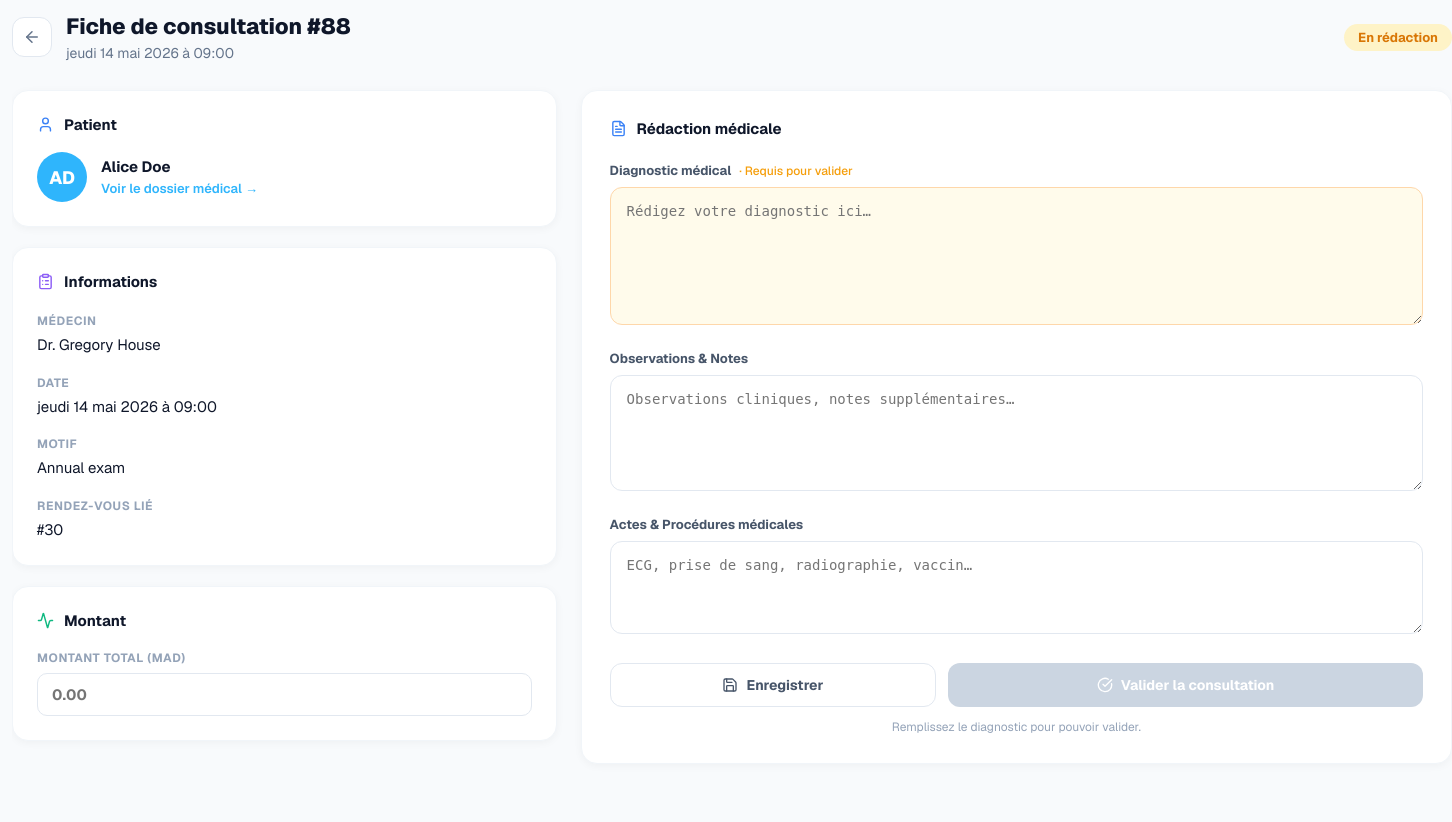
Test: dashboard medical records extra pages › should edit and validate a doctor consultation detail
The width and height of the screenshot is (1452, 822).
Expected: the heading "Fiche de consultation #88" is shown, [66, 12, 351, 40]
Expected: the button "Valider la consultation" is disabled, [948, 663, 1423, 707]
In the text box with placeholder "Rédigez votre diagnostic ici…": x=1016, y=256 [610, 187, 1423, 325], type "Updated diagnosis"
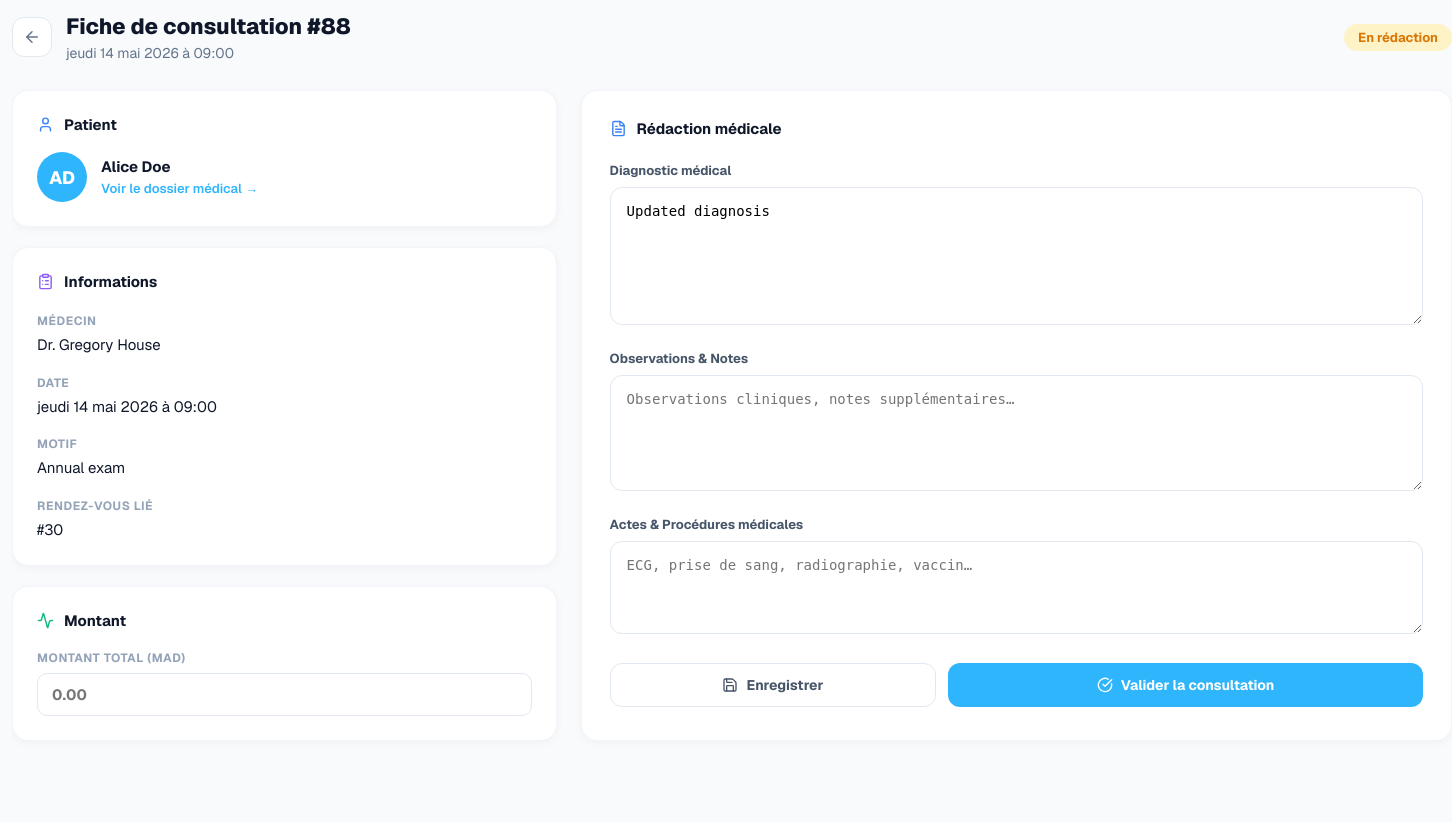
In the text box with placeholder "Observations cliniques, notes supplémentaires…": x=1016, y=433 [610, 375, 1423, 491], type "Observation text"
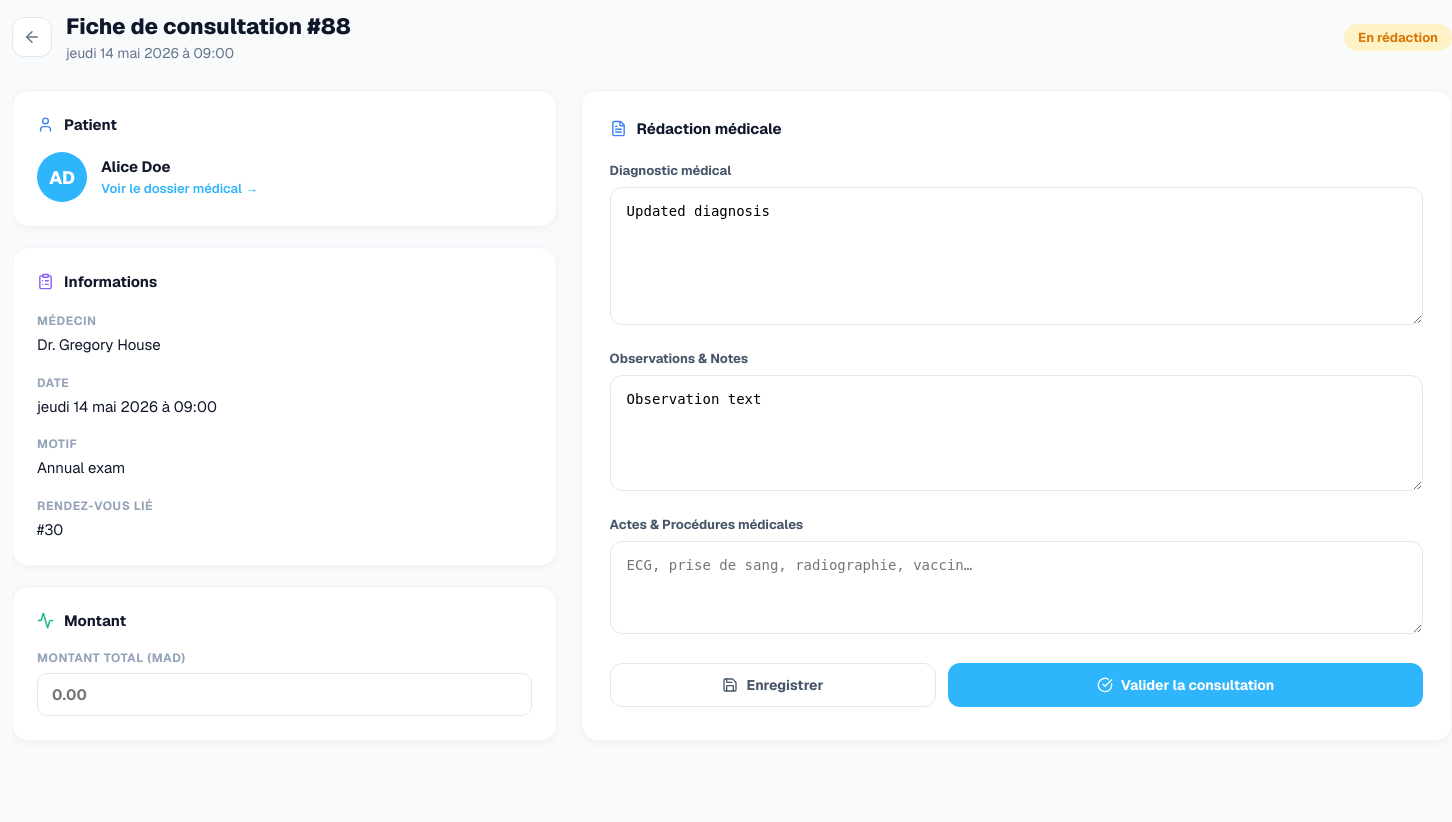
In the text box with placeholder "ECG, prise de sang, radiographie, vaccin…": x=1016, y=587 [610, 540, 1423, 634], type "ECG and blood test"
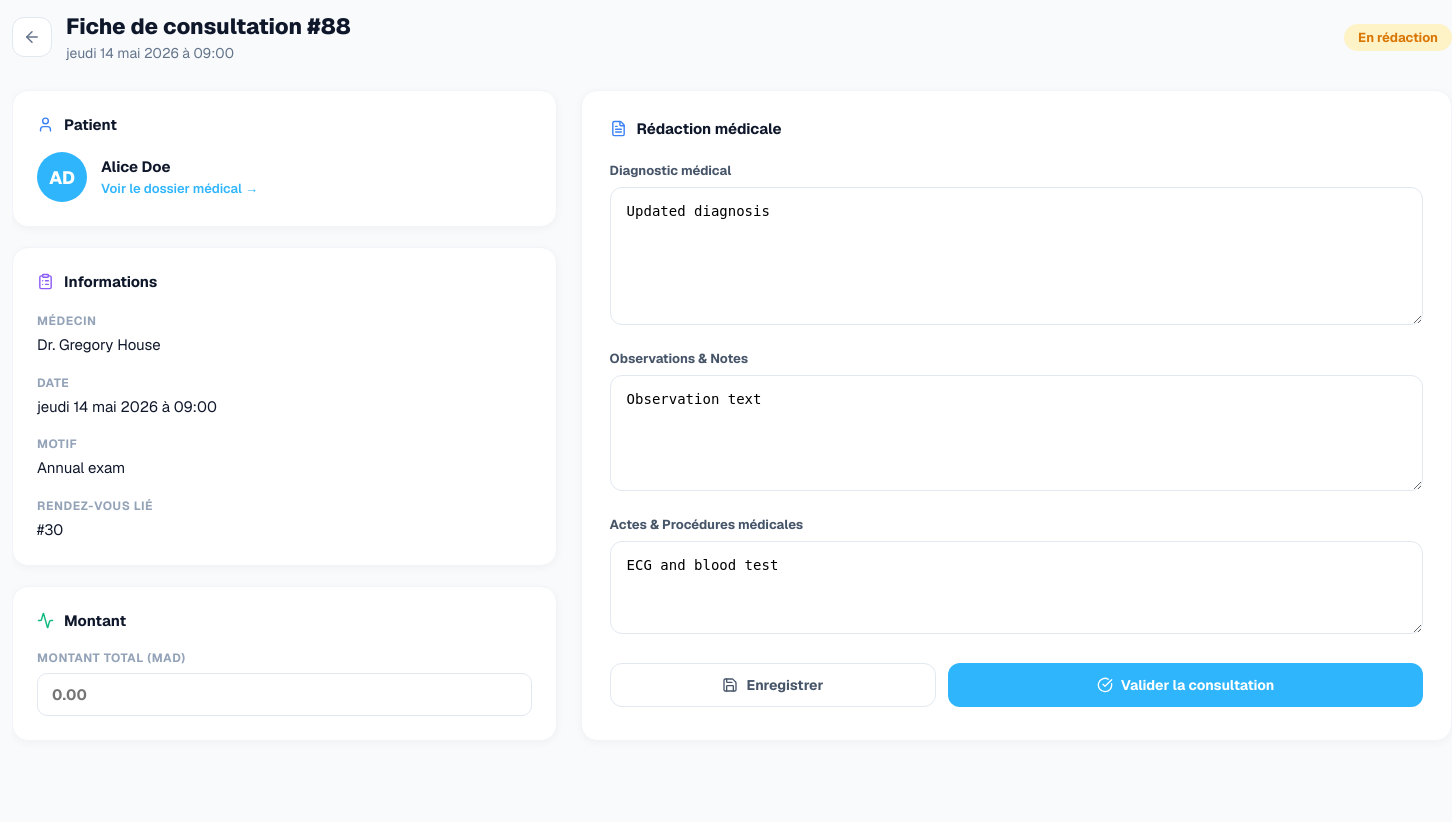
In the number field with placeholder "0.00": x=284, y=694 [37, 673, 532, 716], type "450"
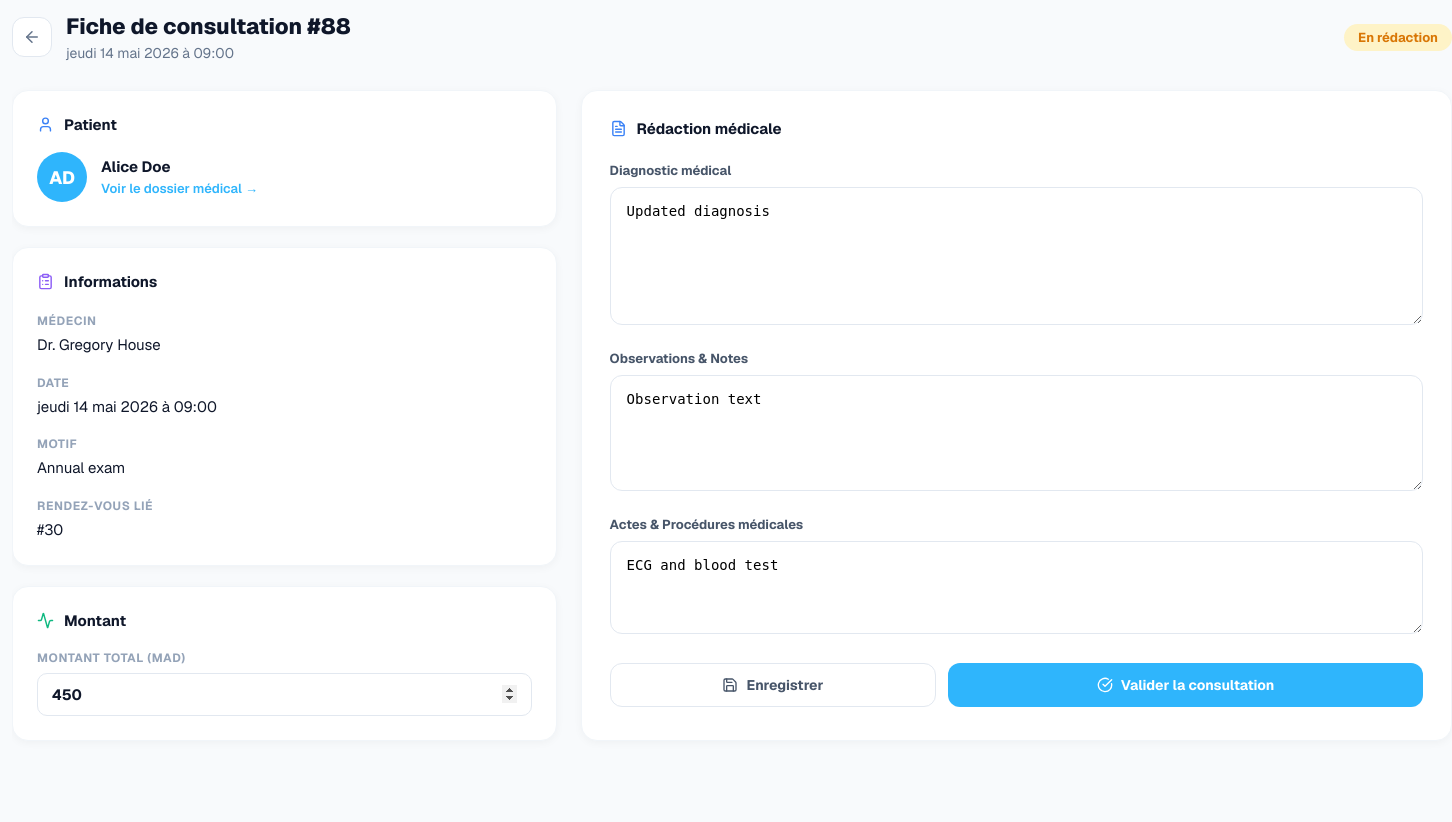
Click the button "Valider la consultation": x=1186, y=685 [948, 663, 1423, 707]
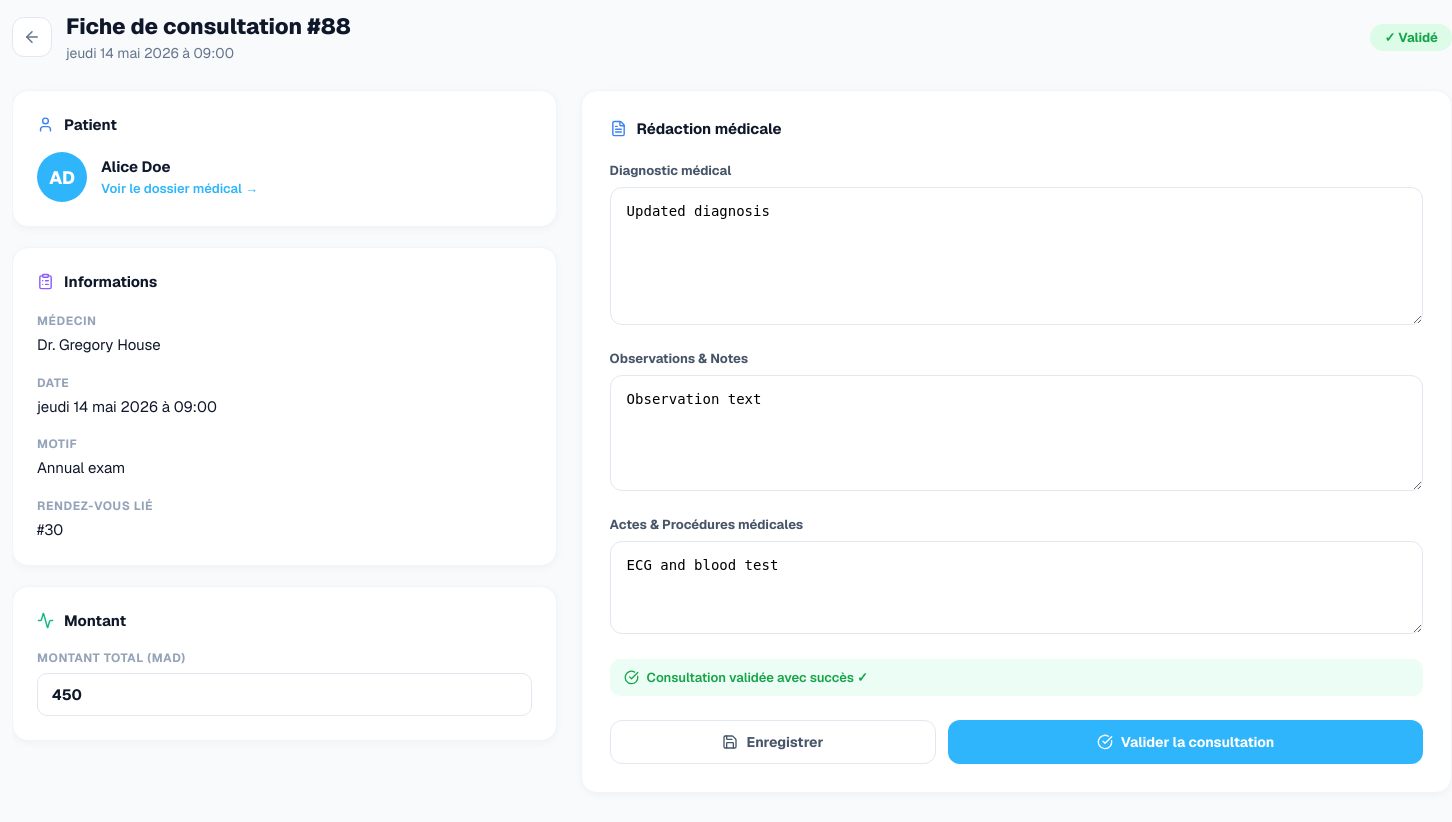
Expected: the text "Consultation validée avec succès ✓" is shown, [610, 659, 1423, 696]
